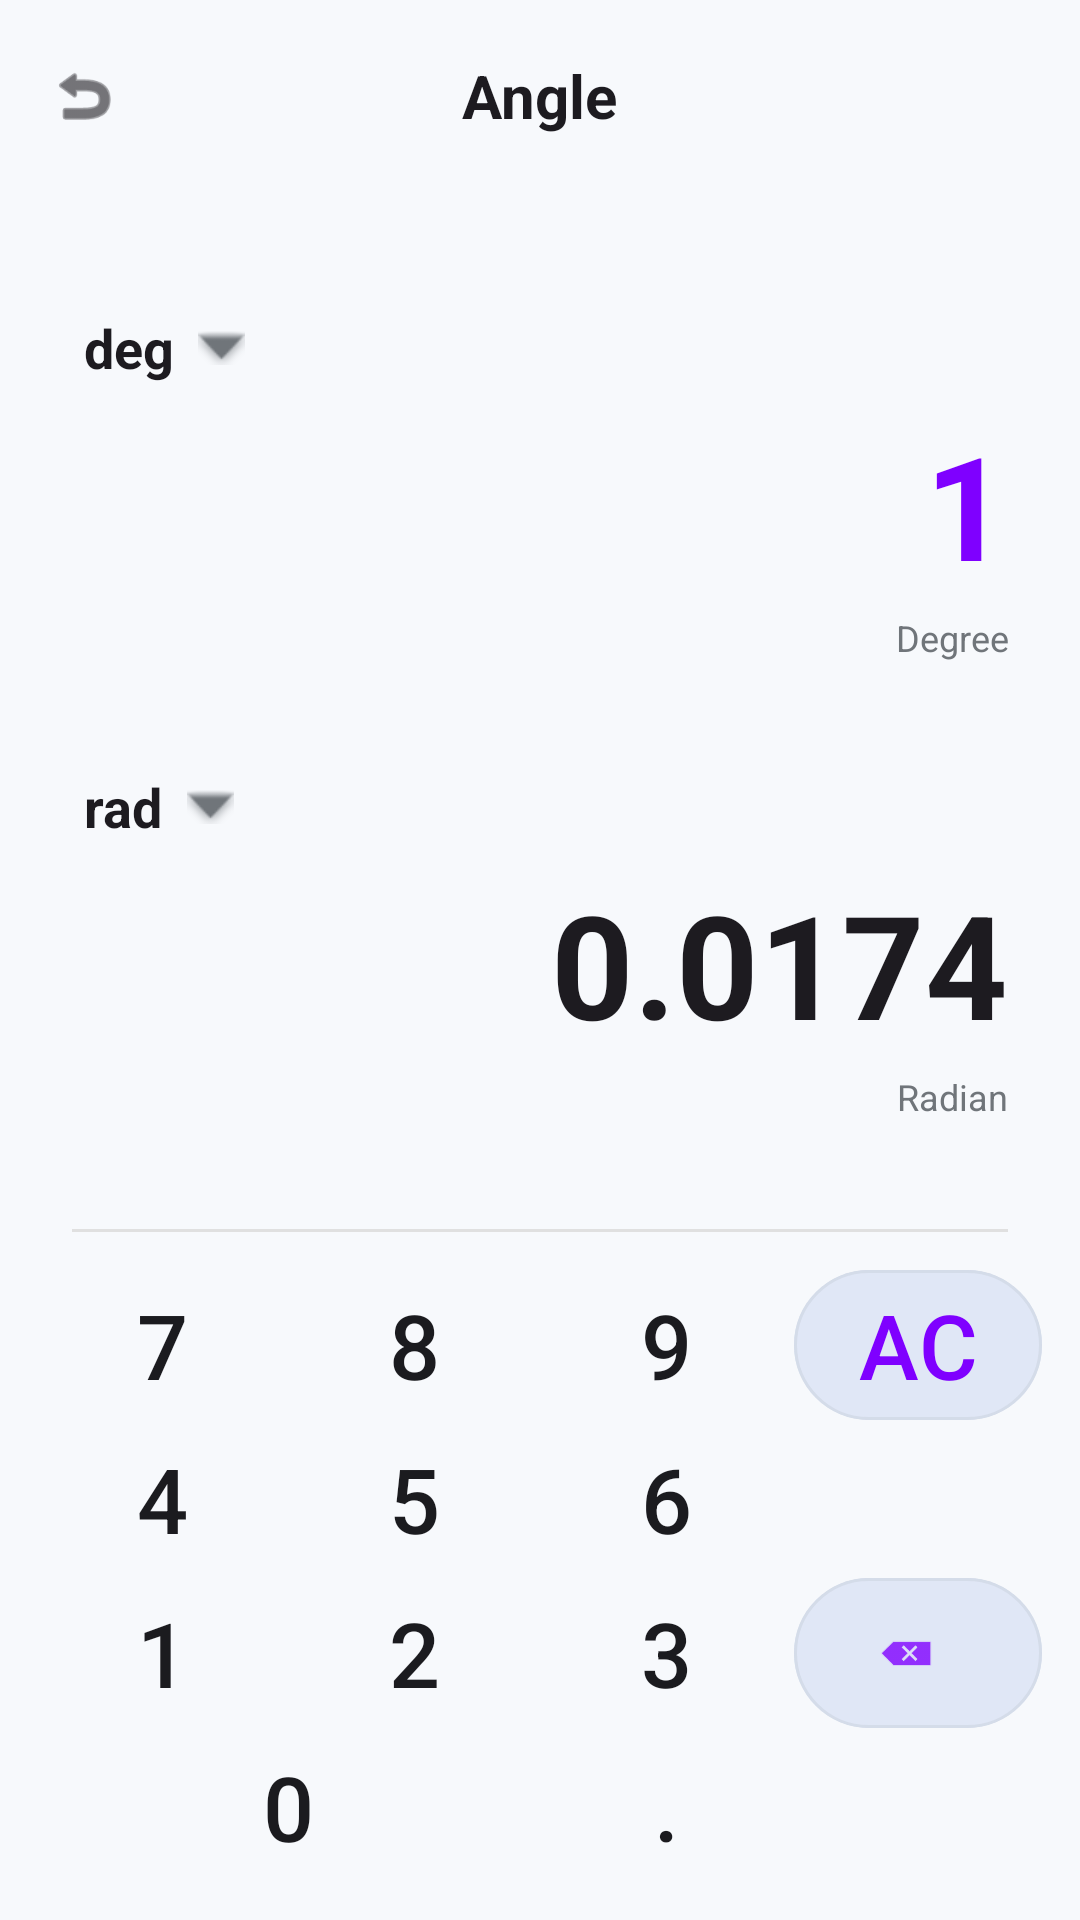

Icon bounding boxes for this 1080 × 1920 phone screenshot, format [x1,y1,x2,y2]:
delete: [794,1578,1042,1728]
revert: [59,73,111,120]
